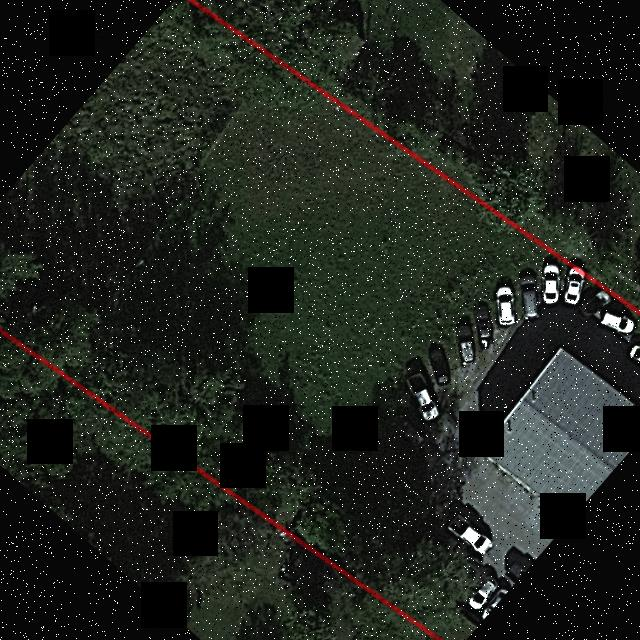Driveway: (443, 301, 640, 586)
House: (482, 348, 640, 520)
